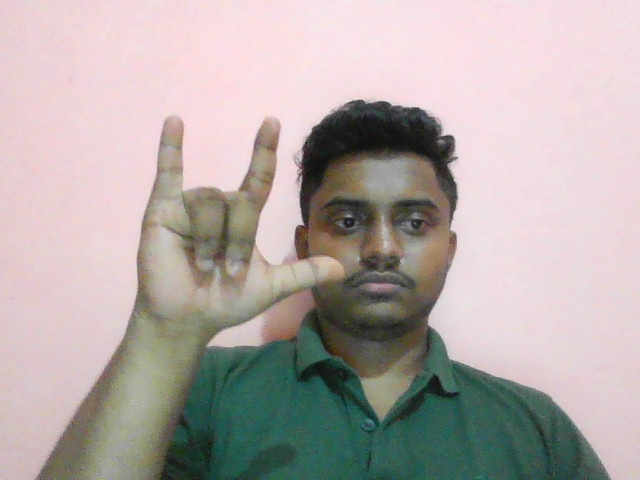I Love You: (120, 111, 346, 363)
